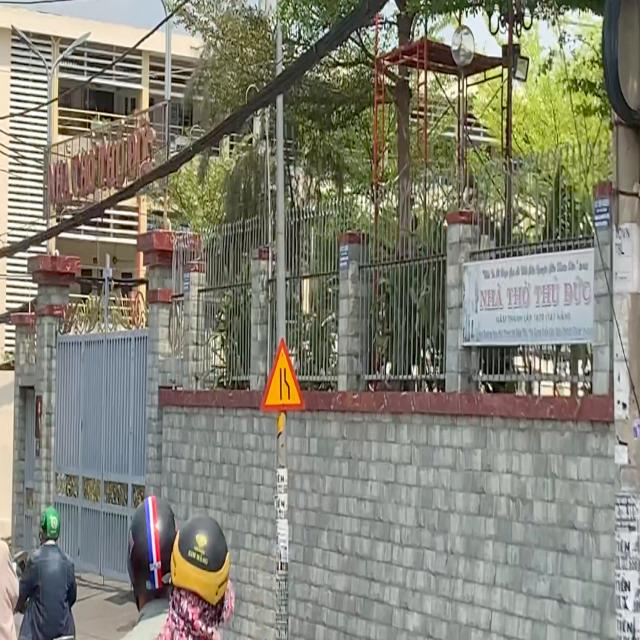Nguy hiem: (259, 336, 306, 412)
